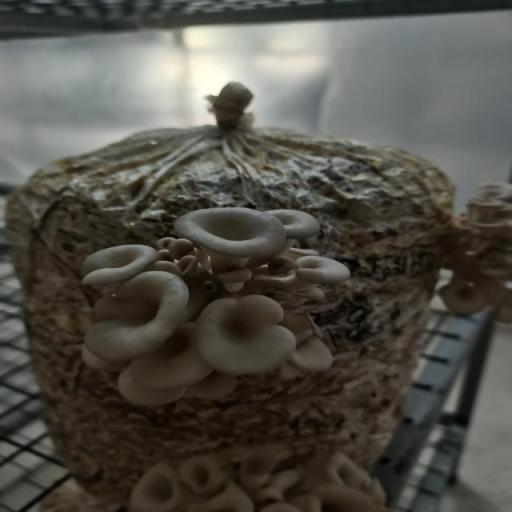White Oyster Mushroom: (74, 204, 352, 404)
